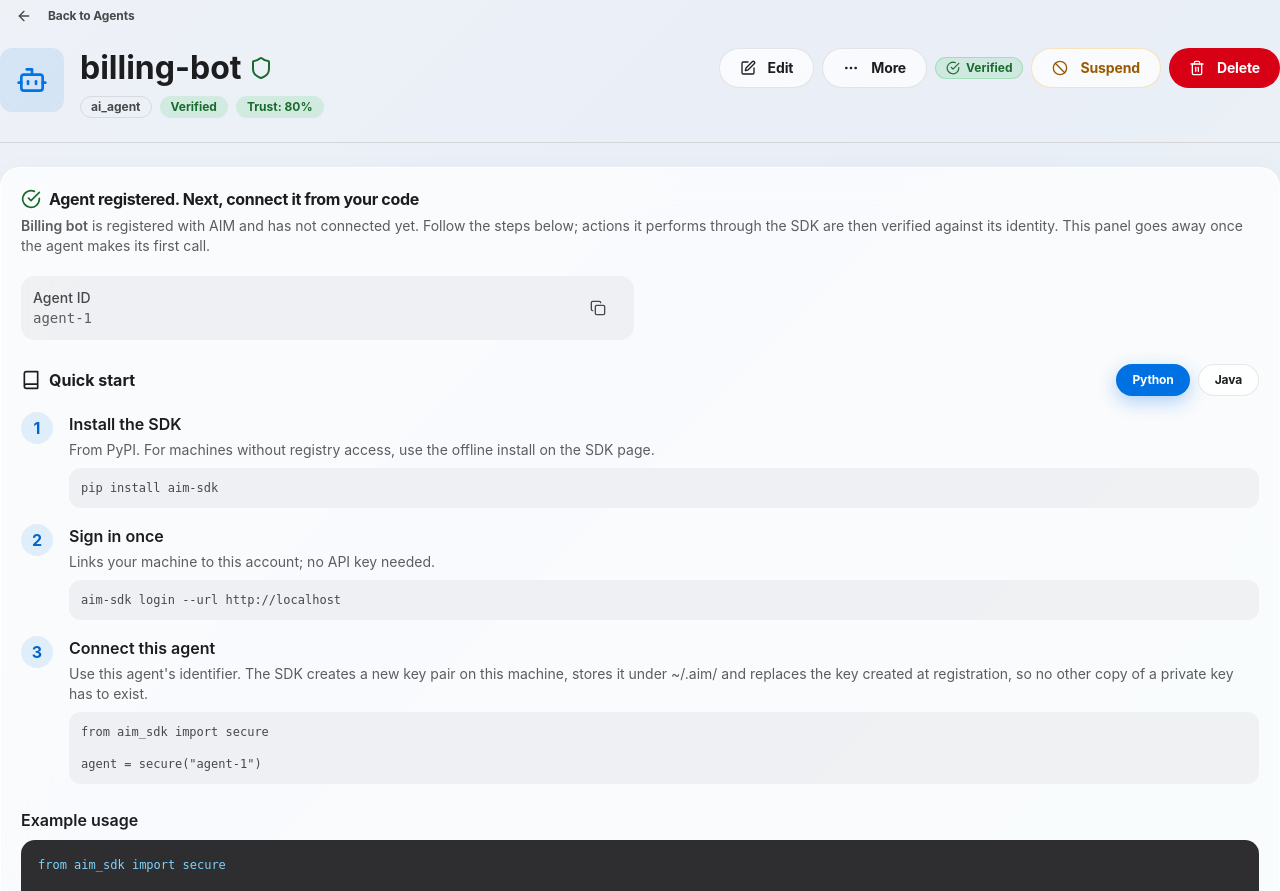
Test: agent page: delete › renders the same dialog text as the agents list
Click the button "Delete".
click(1224, 68)  # box [1169,48,1279,88]
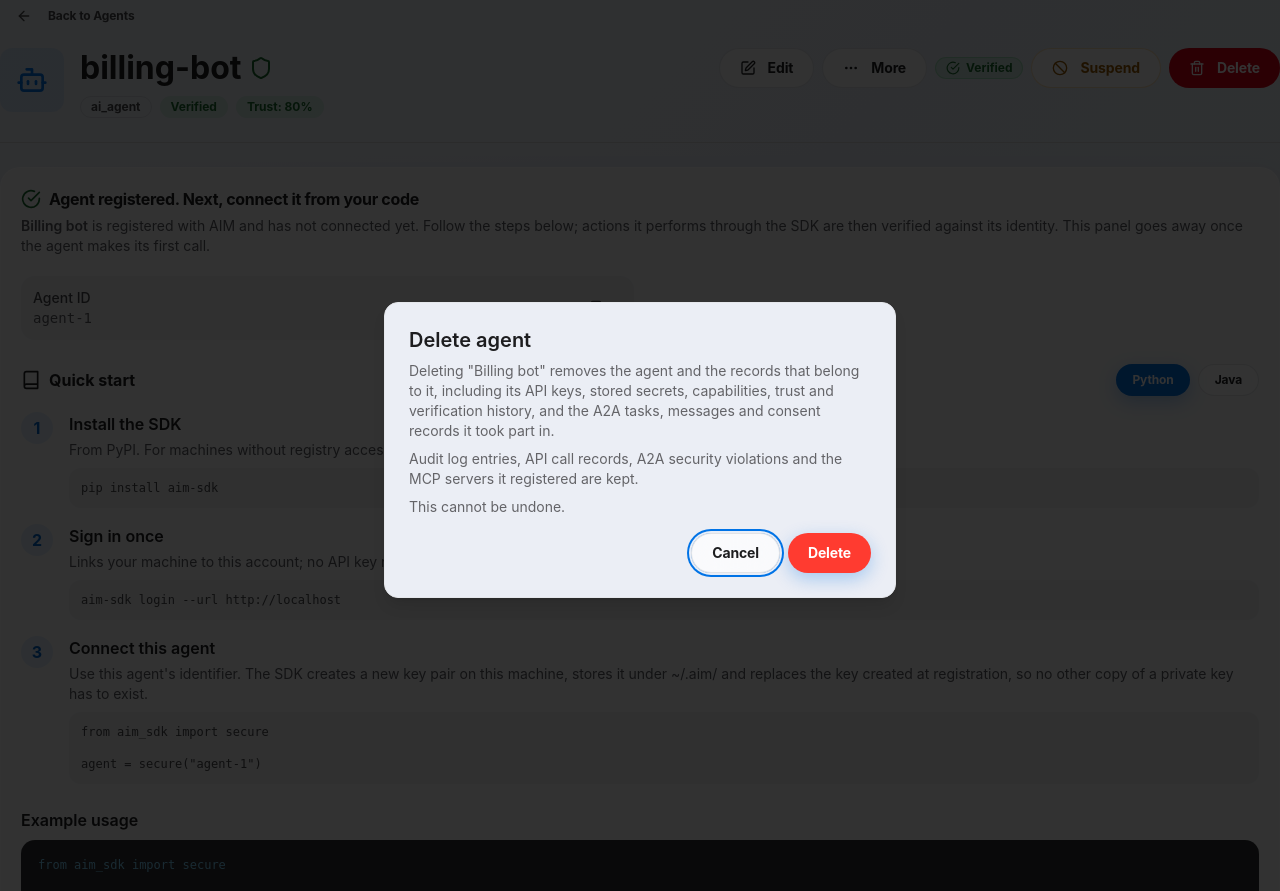
Check: the dialog shows "Audit log entries, API call records, A2A security violations and the MCP servers it registered are kept.", box [409,450,842,487]
Check: the dialog shows "This cannot be undone.", box [409,498,565,515]
